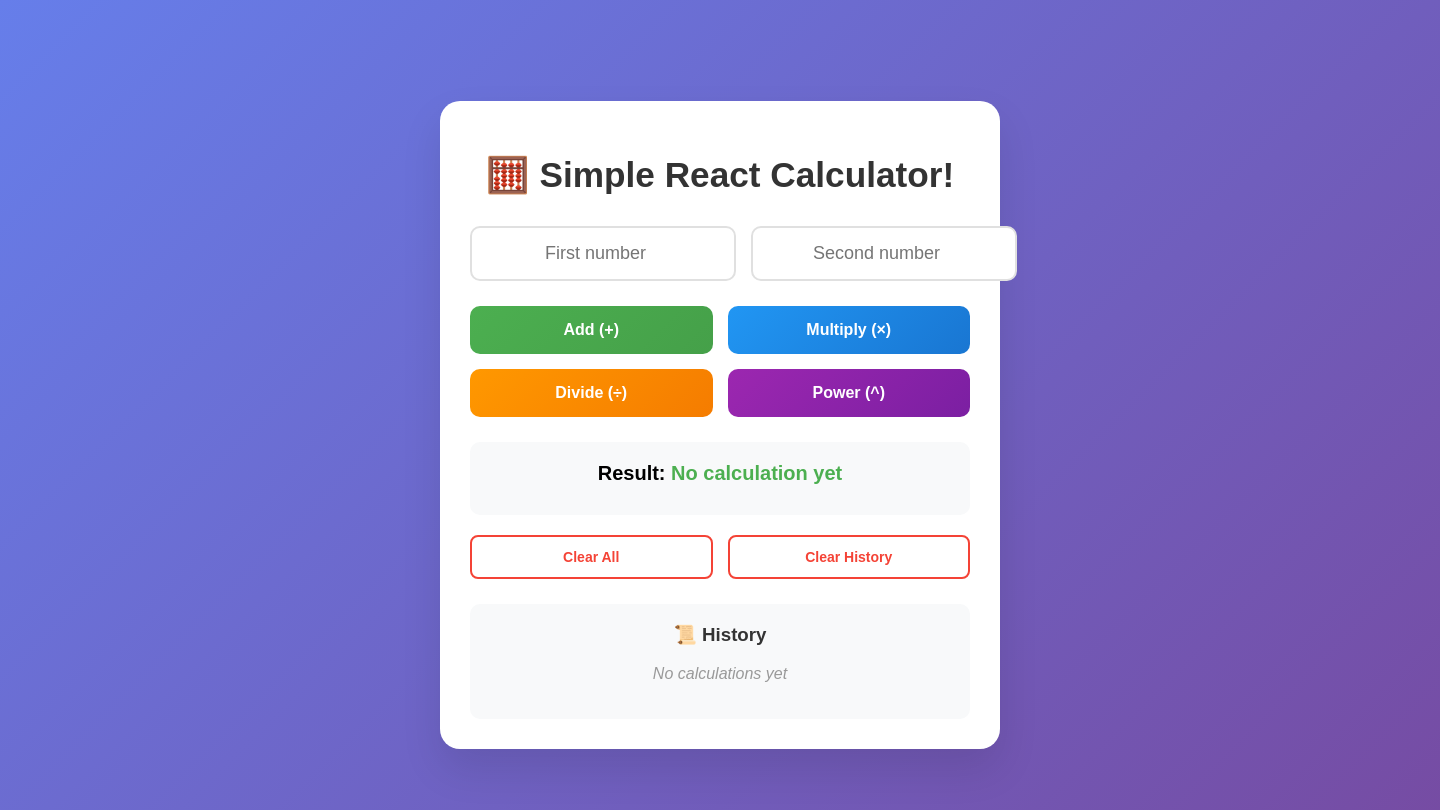
Calculator App › performs multiplication
Type "4" into the number field with placeholder "First number" at [603, 254], box [470, 226, 736, 281]
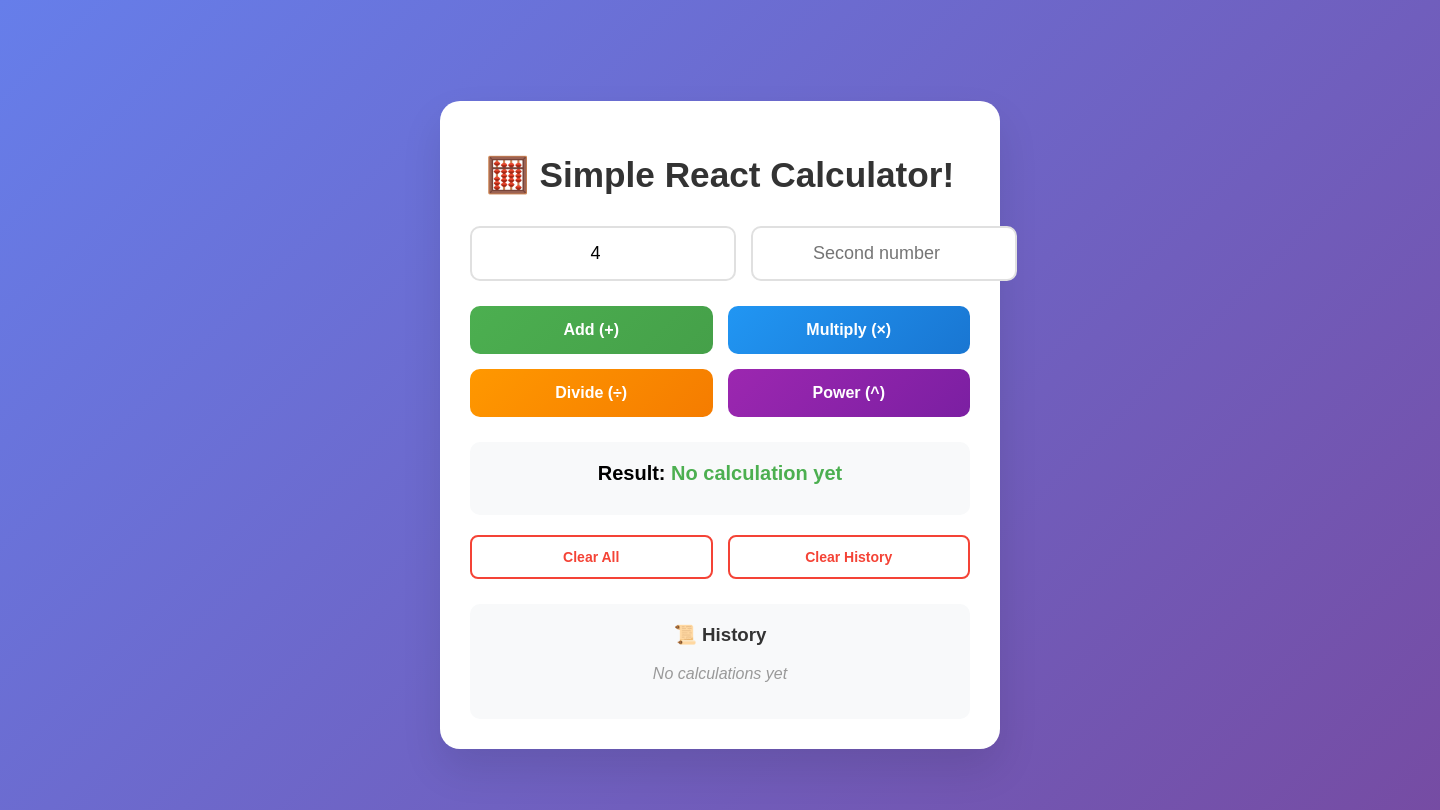
Type "6" into the number field with placeholder "Second number" at [884, 254], box [751, 226, 1017, 281]
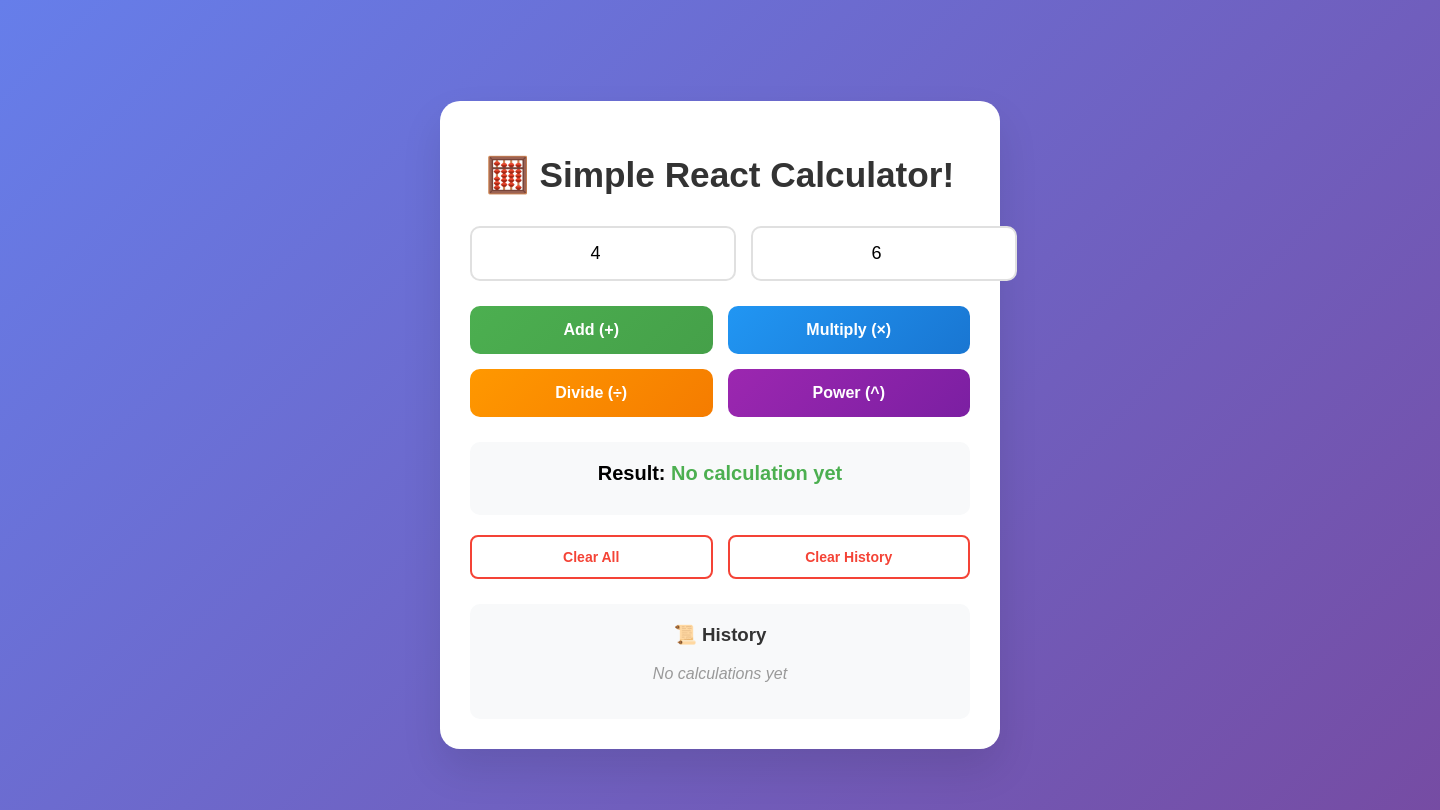
Click the button "Multiply (×)" at [849, 330], box [728, 306, 970, 354]
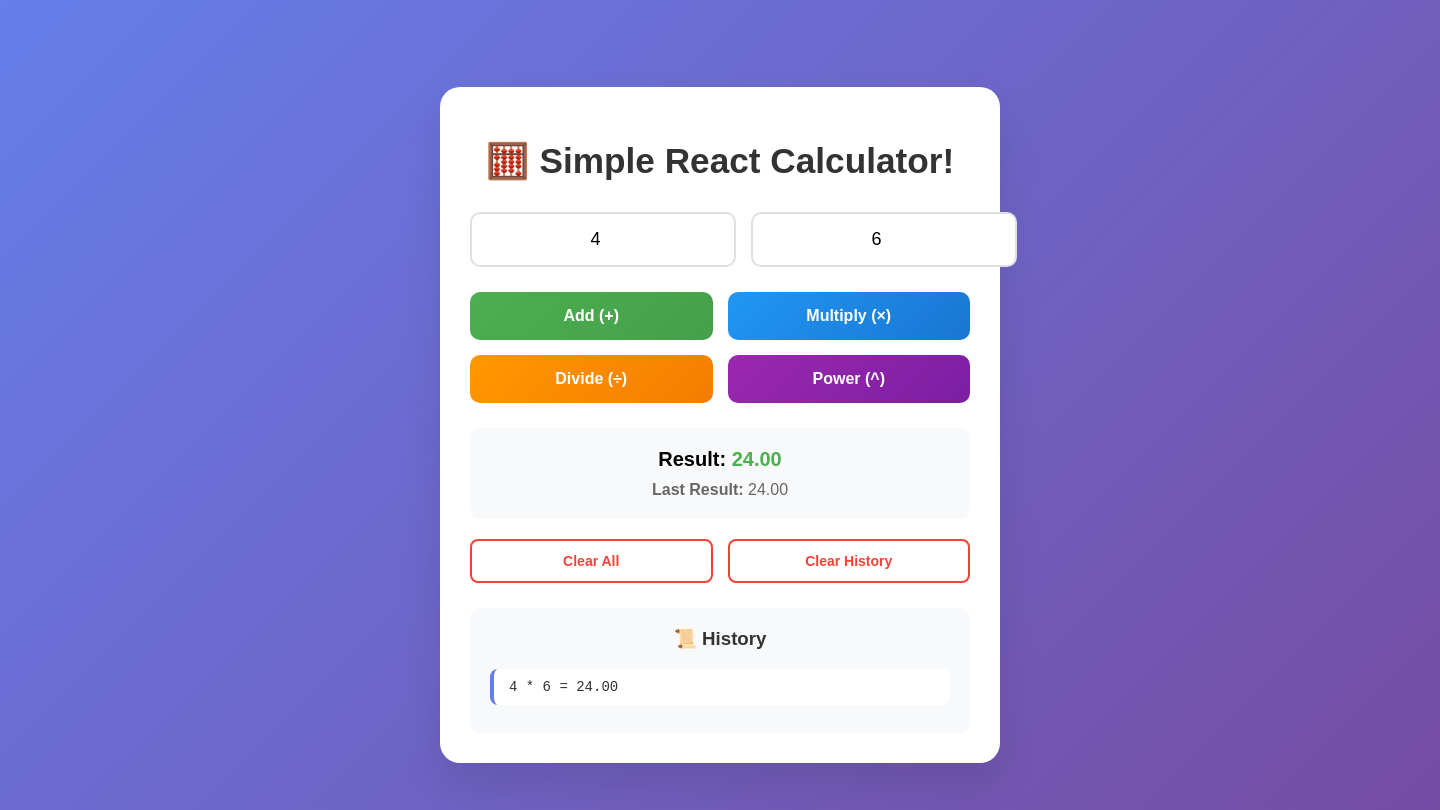
Check: the text with class "success" reads "24.00", box [732, 448, 782, 470]
